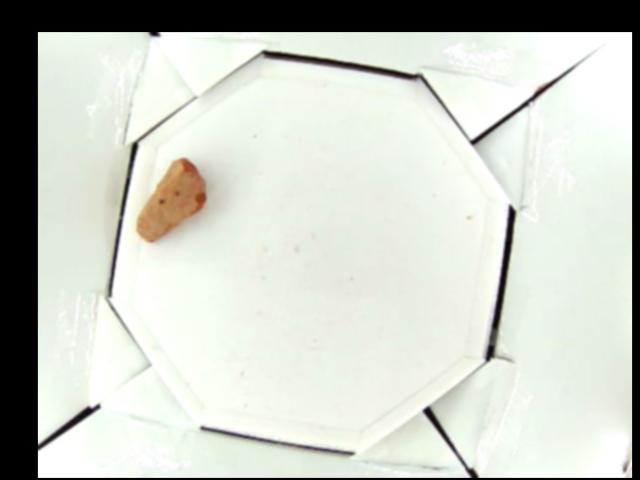Brisk: (134, 156, 207, 243)
